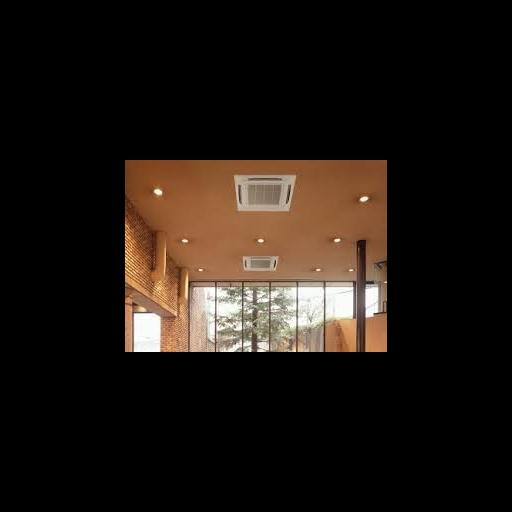4-way-ac: (236, 177, 293, 212), (243, 256, 279, 272)
